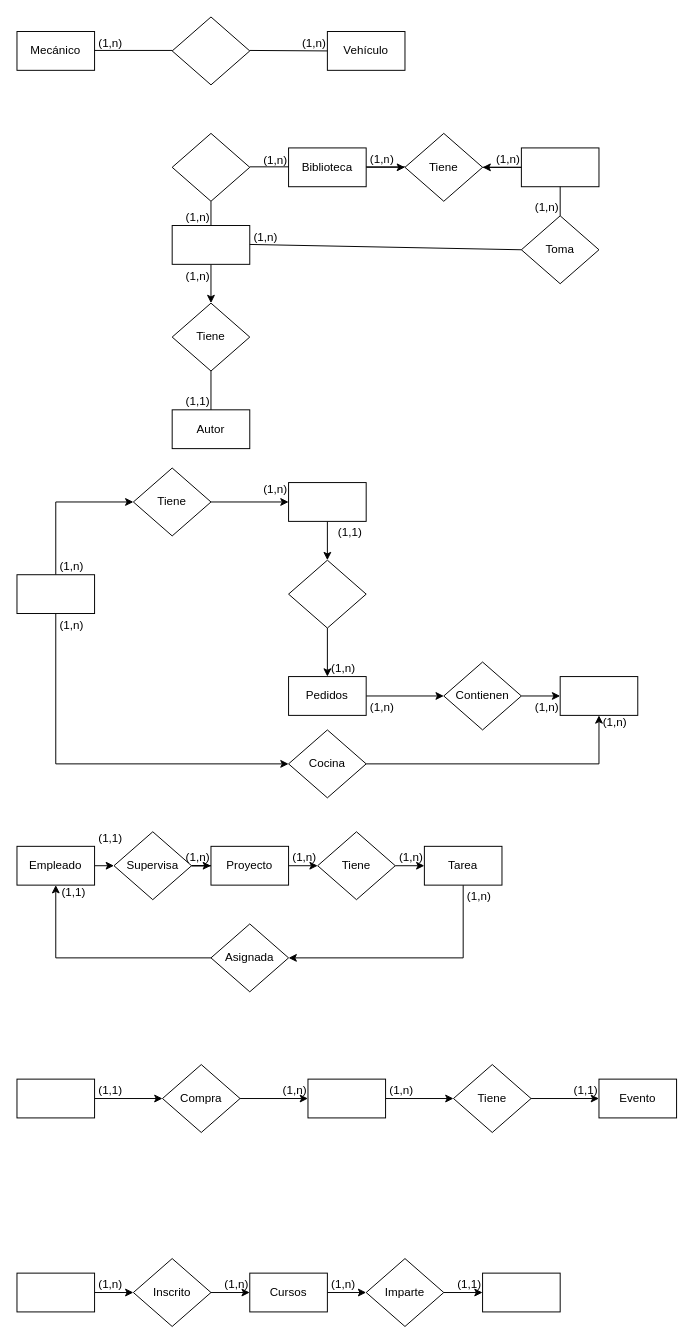
The diagram is 694 pixels wide and 1343 high, and some of its shapes have lost their labels. The shapes that lost their labels are listed below. From the top down, each one's box as (x1, y1, x2, y2) in pixels, then its label:
(171, 16, 250, 85): Repara
(171, 132, 250, 201): Presta
(520, 147, 599, 187): Socios
(171, 225, 250, 264): Libros
(288, 482, 366, 521): Clientes
(16, 574, 95, 614): Restaurante
(288, 559, 366, 628): Realiza
(559, 676, 638, 715): Platos
(16, 1078, 95, 1118): Cliente
(307, 1078, 386, 1118): Entradas
(16, 1272, 95, 1312): Estudiantes
(482, 1272, 560, 1312): Profesor
